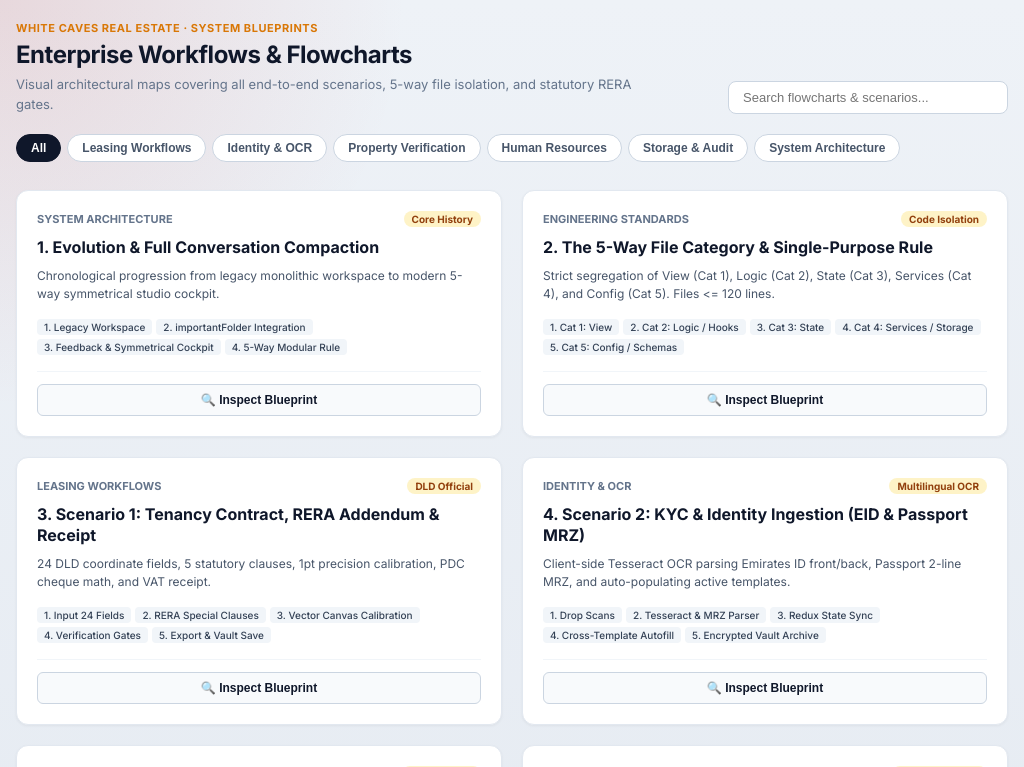
Test: WorkflowBlueprintsPage › filters cards by search query
Type "SIF Payroll" into the search field with placeholder "Search flowcharts & scenarios..." at (868, 98), box [728,81,1008,114]
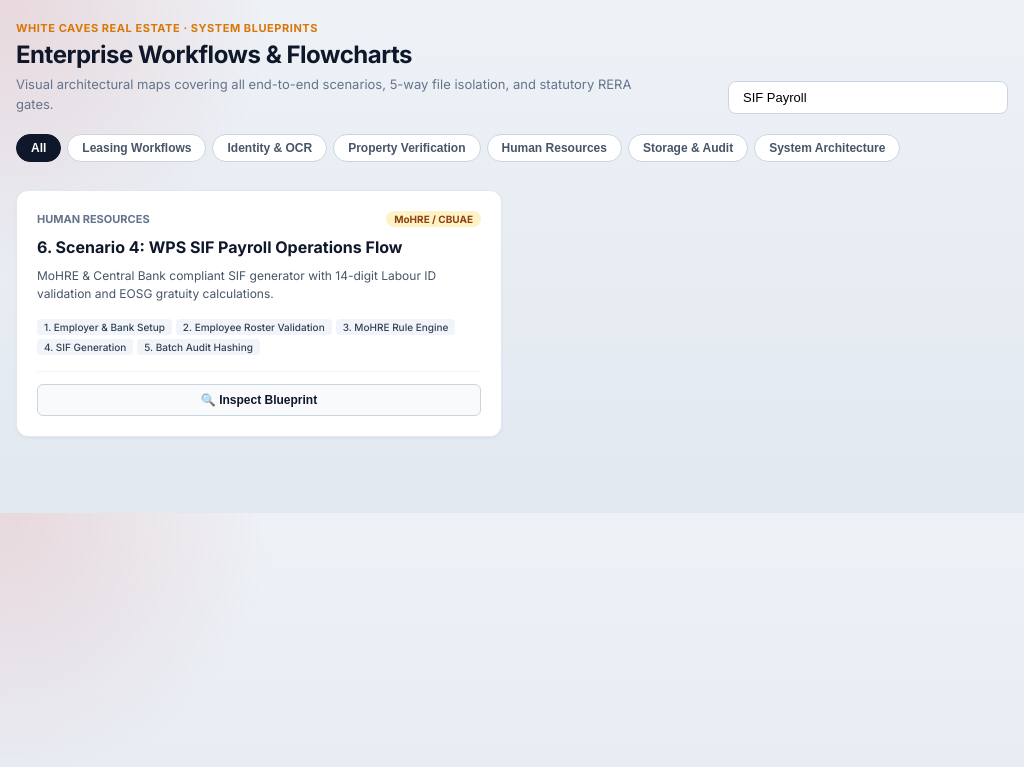
Expected: the heading "6. Scenario 4: WPS SIF Payroll Operations Flow" is shown, [37,237,402,257]
Expected: the heading "Tenancy Contract, RERA Addendum" is gone
